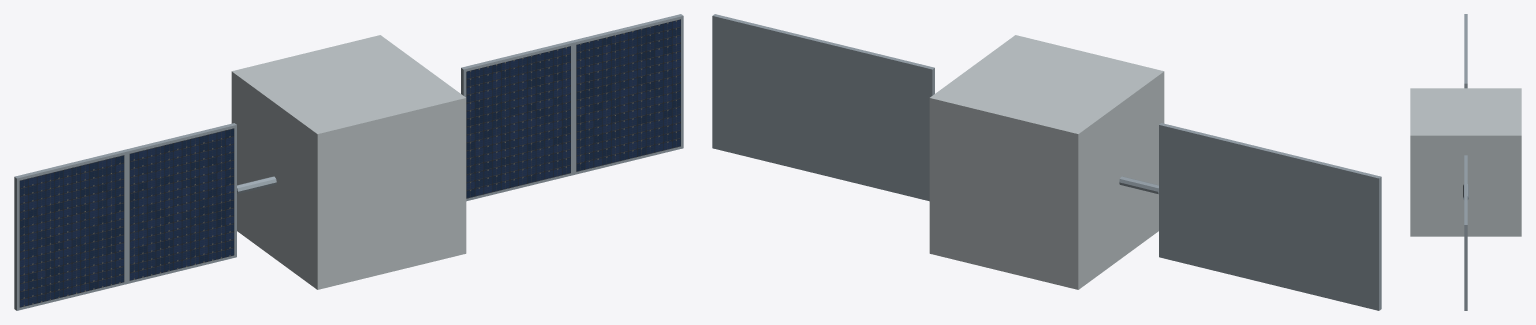
Rendered from ref-servis-28060.glb.
The picture shows the model from 3 angles, left to right: view 1: azimuth 30°, elevation 25°; view 2: azimuth 150°, elevation 25°; view 3: azimuth 270°, elevation 25°; orthographic projection. The views are drawn at different scales.
Parts seen in each view (by area): view 1: Photovoltaic laminates (×4), Spacecraft body, Array frame (×4); view 2: Array frame (×4), Spacecraft body; view 3: Spacecraft body, Array frame (×4).
Boxes of the visible parts, x1,y1,x2,y2 form: Photovoltaic laminates (×4): (19,19,680,307); Spacecraft body: (231,35,466,289); Array frame (×4): (14,14,683,310); Array frame (×4): (712,14,1381,310); Spacecraft body: (929,35,1164,289); Spacecraft body: (1410,88,1521,236); Array frame (×4): (1464,14,1467,310).
Size of the model in its own units: 10.3 by 2.3 by 2.3.
Materials: 3 (1 with a texture image).
